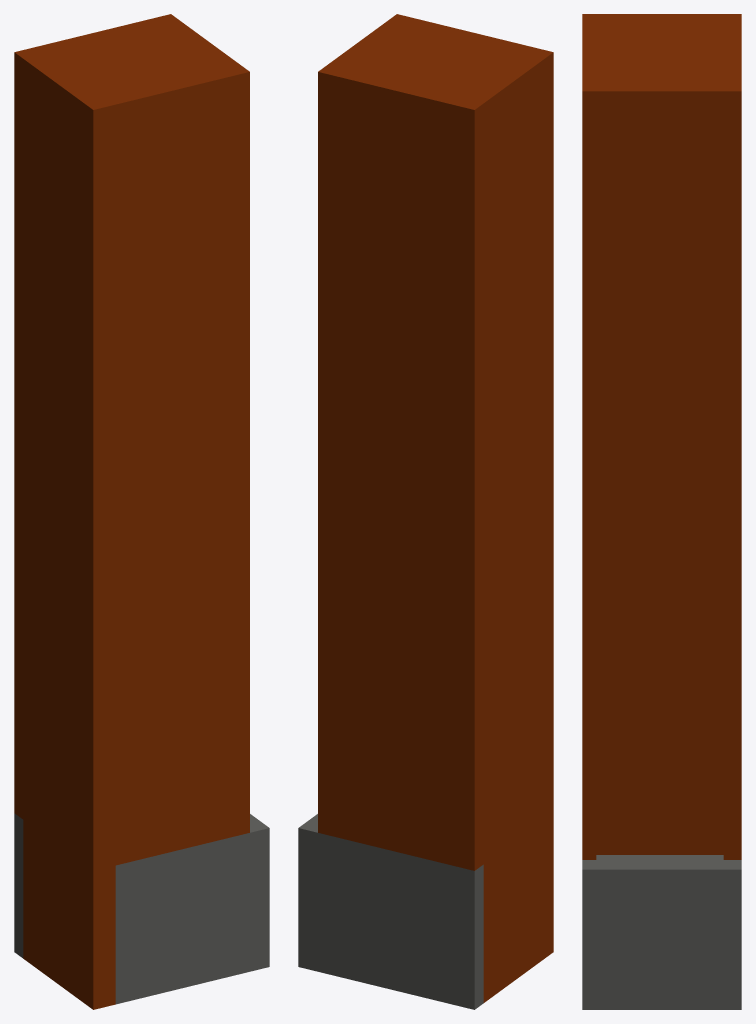
The model's file is wallConector.fbx.
The picture shows the model from 3 angles, left to right: view 1: azimuth 30°, elevation 25°; view 2: azimuth 150°, elevation 25°; view 3: azimuth 270°, elevation 25°; orthographic projection.
Visible parts, largest first — view 1: Cube.001; view 2: Cube.001; view 3: Cube.001.
Part boxes in pixels (box(x1,y1,x2,y2)): Cube.001: box(14, 14, 269, 1009); Cube.001: box(298, 14, 553, 1009); Cube.001: box(582, 14, 741, 1009).
Size of the model in its own units: 129 by 628 by 100.
